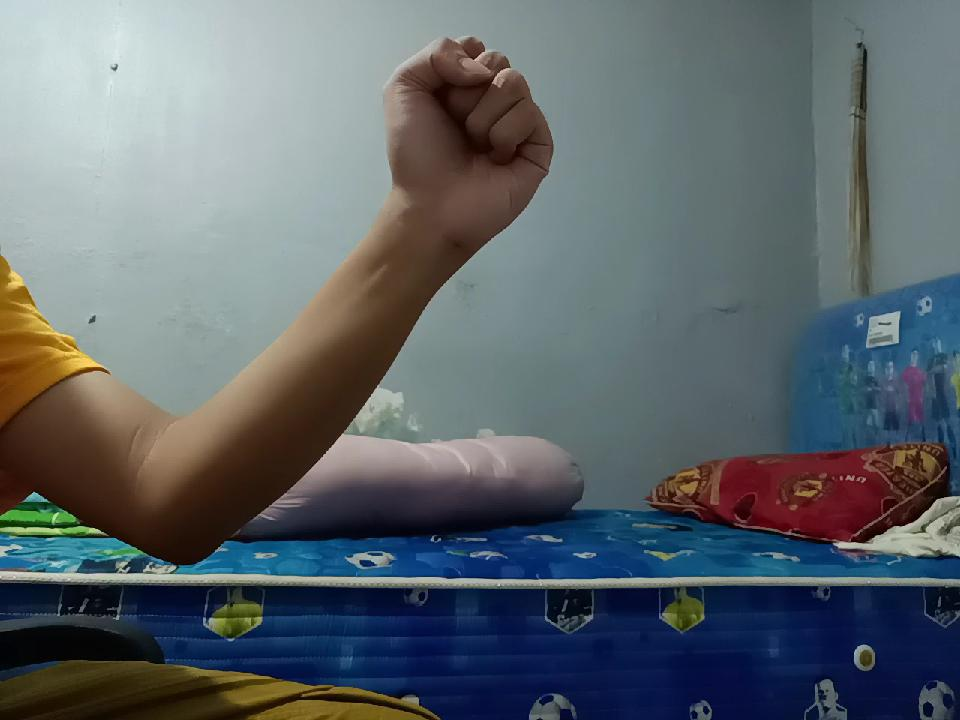rock: (376, 14, 560, 276)
